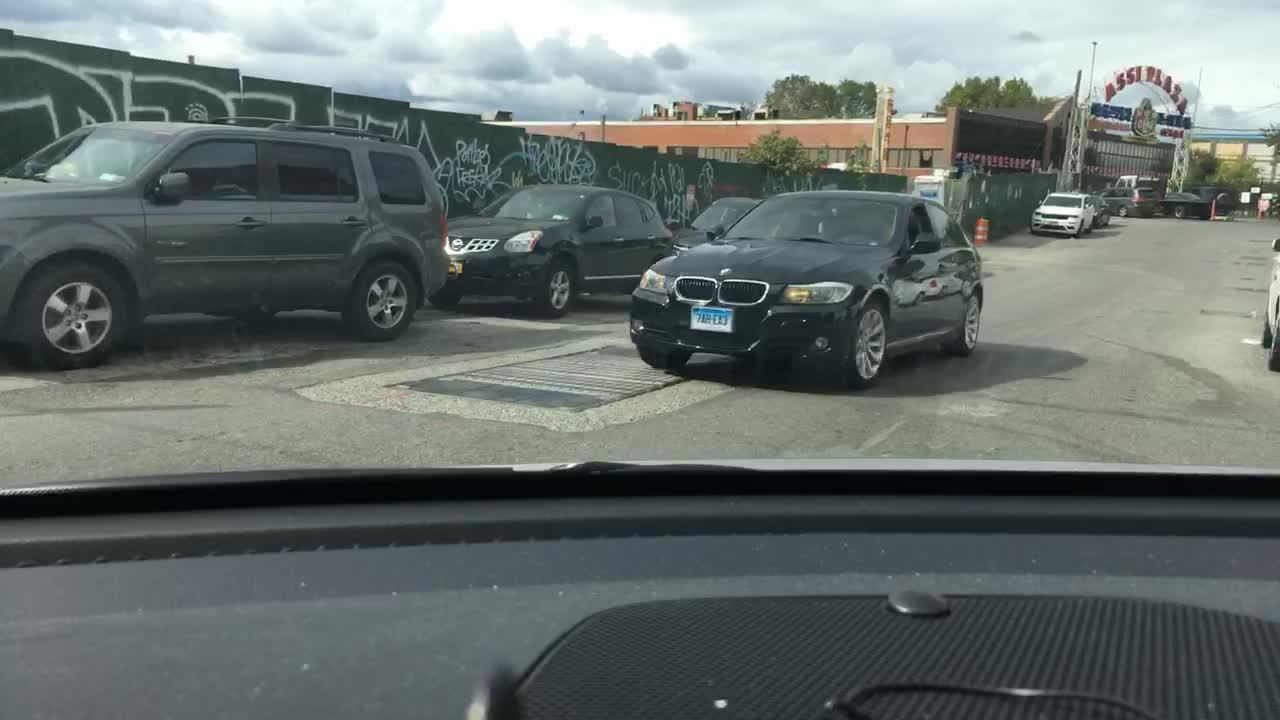bmw: (705, 254, 745, 290)
